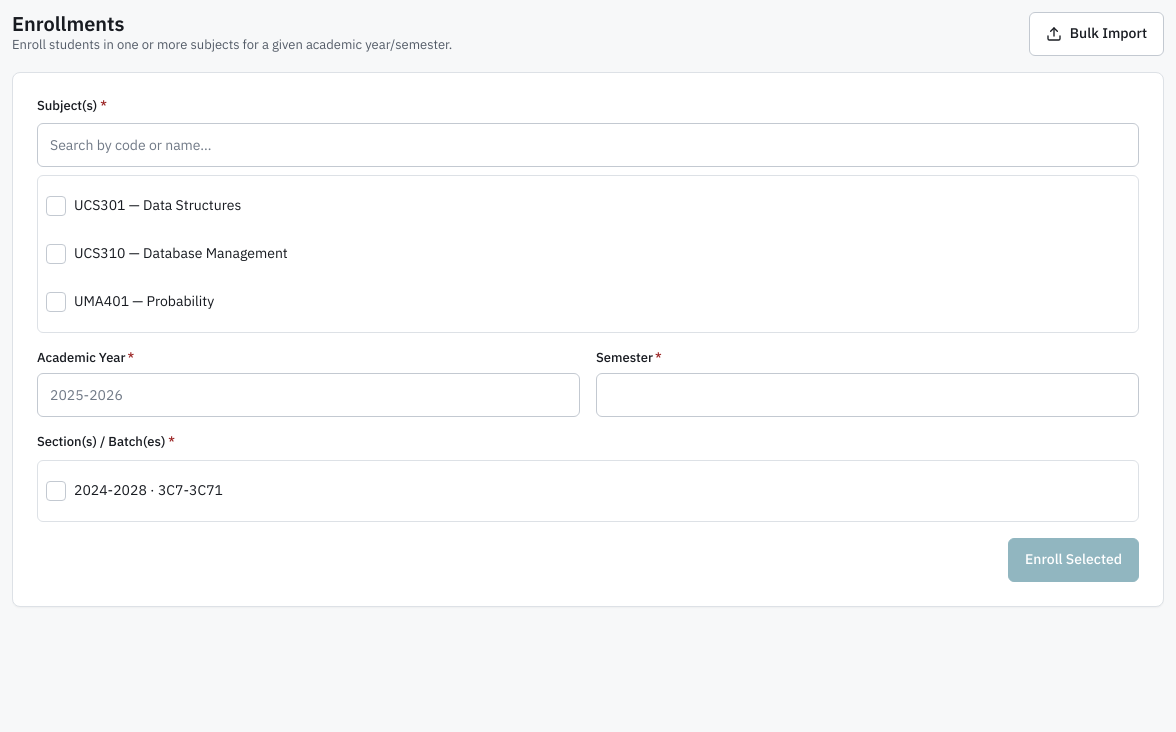
Test case: EnrollmentManager — multiple subjects at once › searches the subject list and shows how many are selected
The image size is (1176, 732).
Type "ucs3" into the field named "search subjects" at point(588, 145), box x1=37 y1=123 x2=1139 y2=167
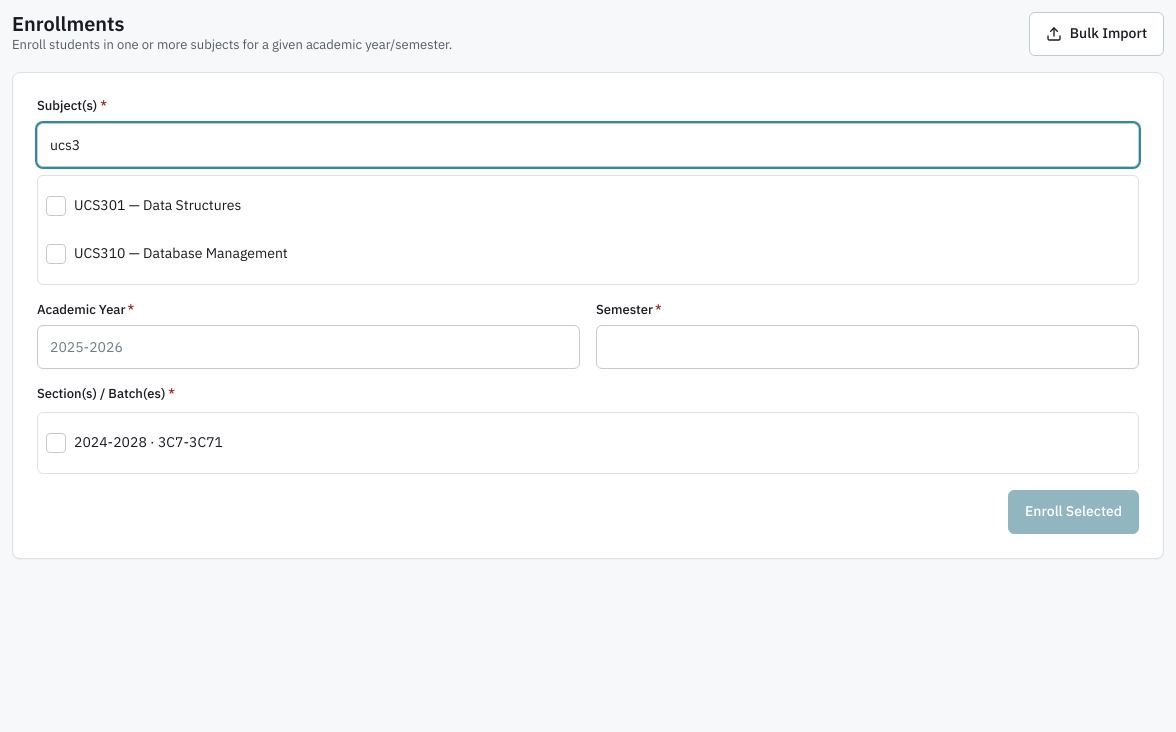
Check: the text labelled "UMA401 — Probability" is gone
Click the checkbox labelled "UCS301 — Data Structures" at point(56, 206), box x1=46 y1=196 x2=66 y2=216
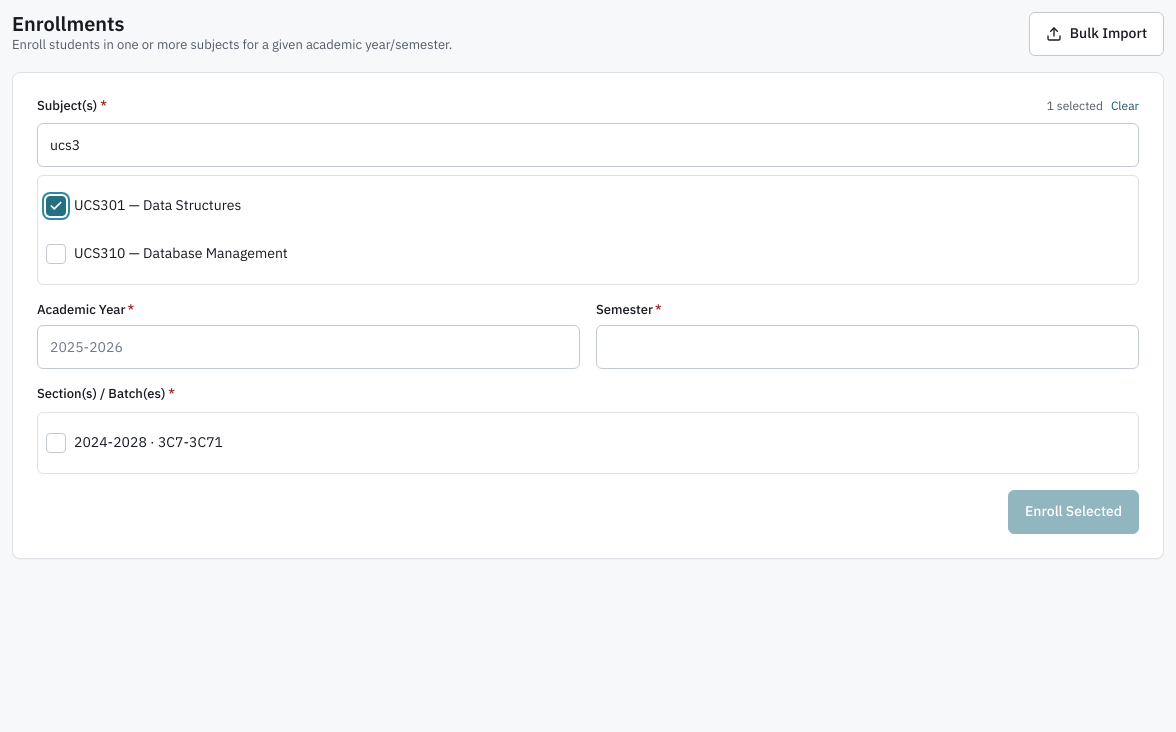
Click the checkbox labelled "UCS310 — Database Management" at point(56, 254), box x1=46 y1=244 x2=66 y2=264
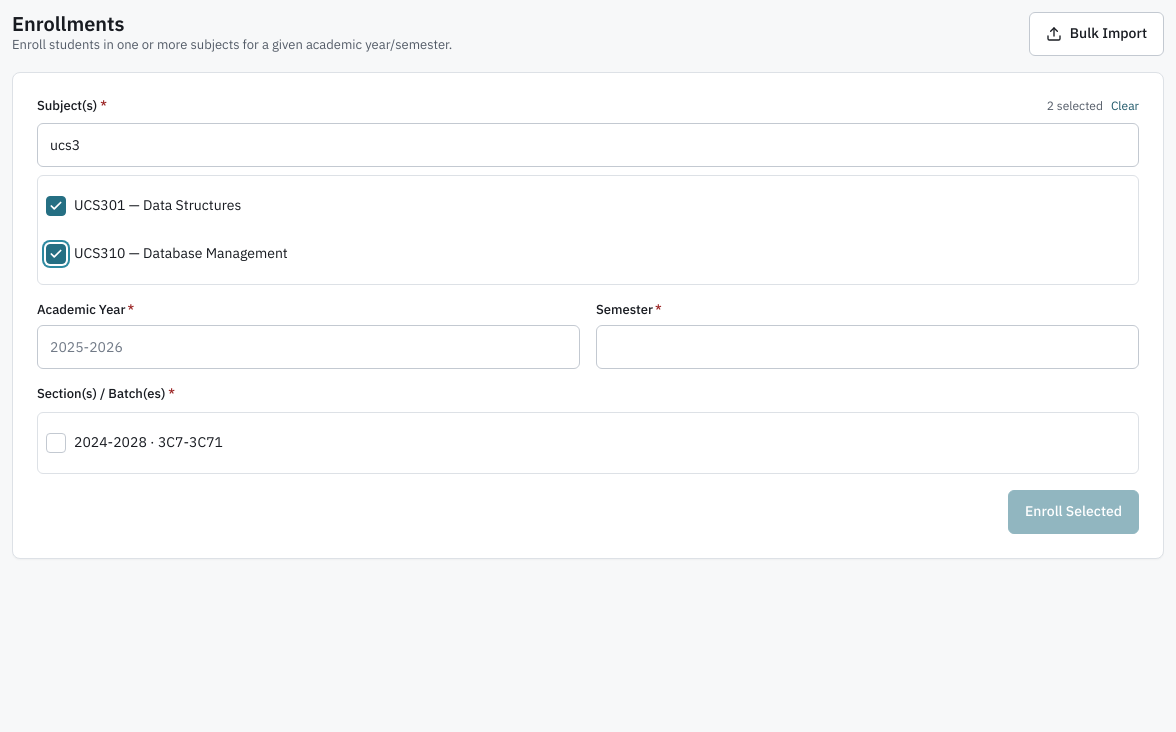
Check: the text "2 selected Clear" is shown, box x1=1047 y1=98 x2=1139 y2=114
// A selection survives changing the search text.
Replace the text in the field named "search subjects" with "prob" at point(588, 145), box x1=37 y1=123 x2=1139 y2=167
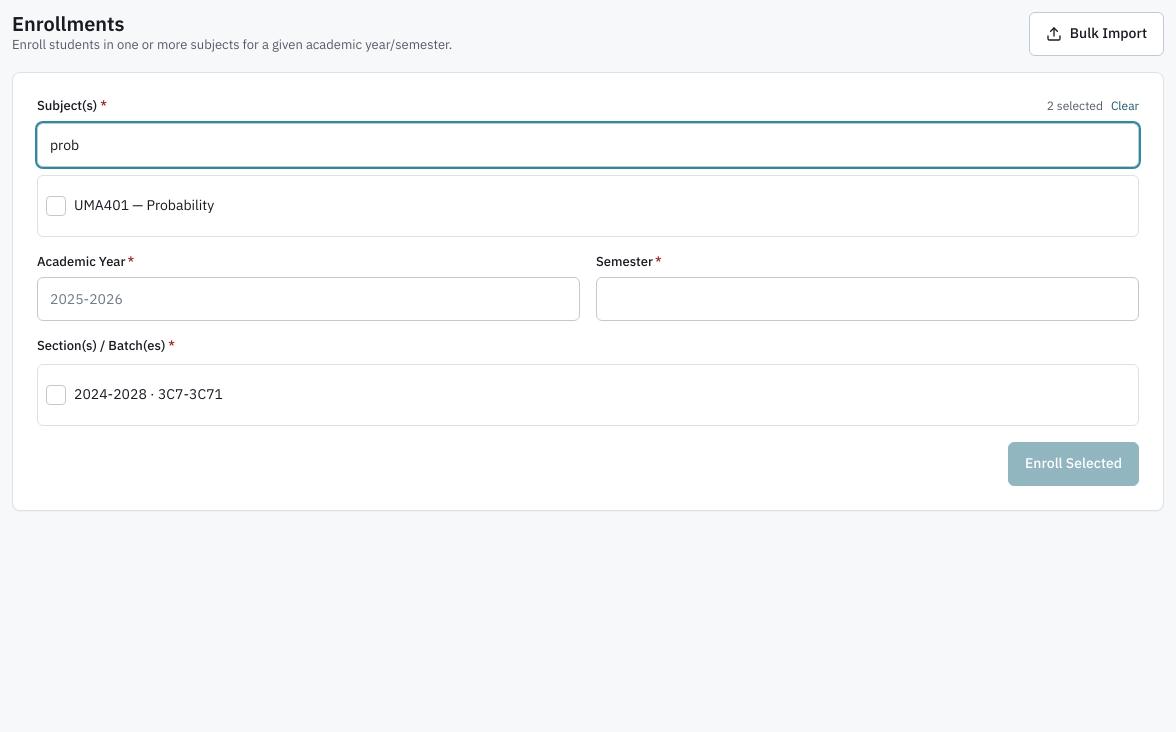
Check: the text "2 selected Clear" is shown, box x1=1047 y1=98 x2=1139 y2=114
Click the button "Clear" at point(1125, 106), box x1=1111 y1=98 x2=1139 y2=114
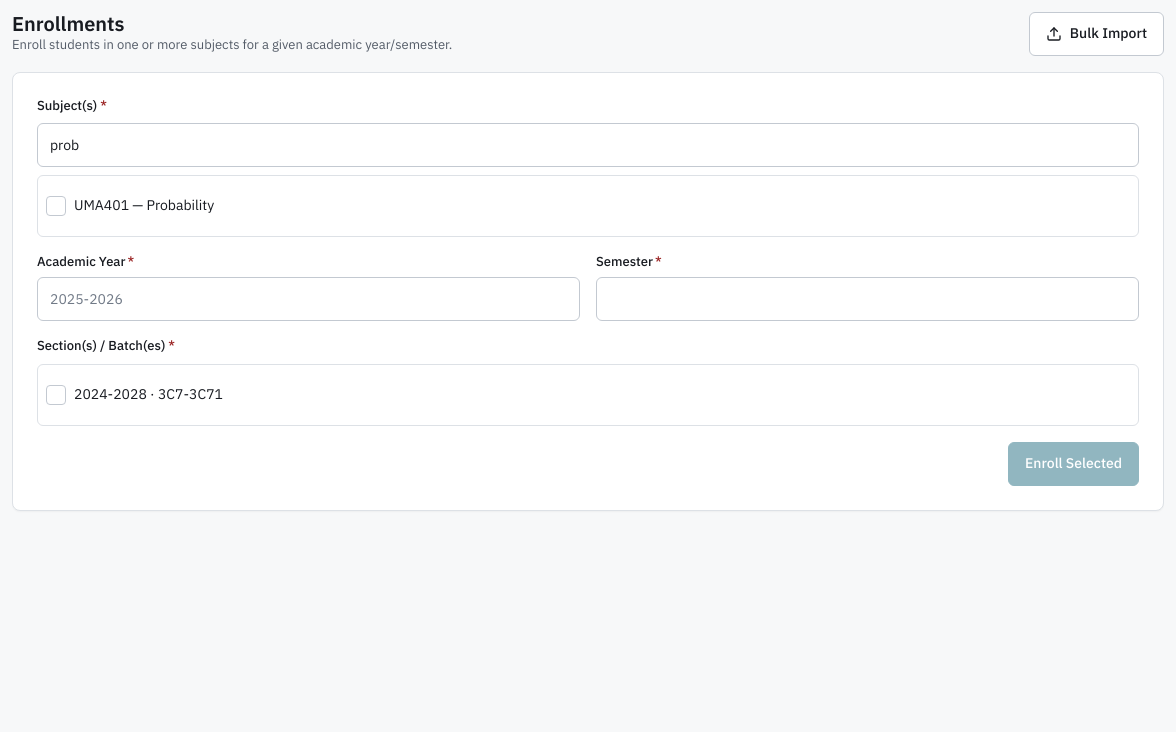
Check: the text "2 selected" is gone
